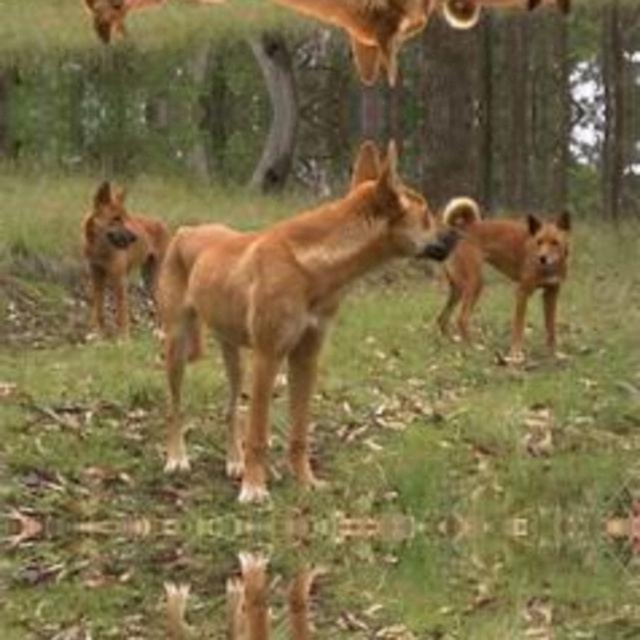dog: (156, 162, 458, 464), (440, 196, 590, 350), (156, 0, 458, 62), (156, 588, 458, 640), (440, 0, 590, 28)
